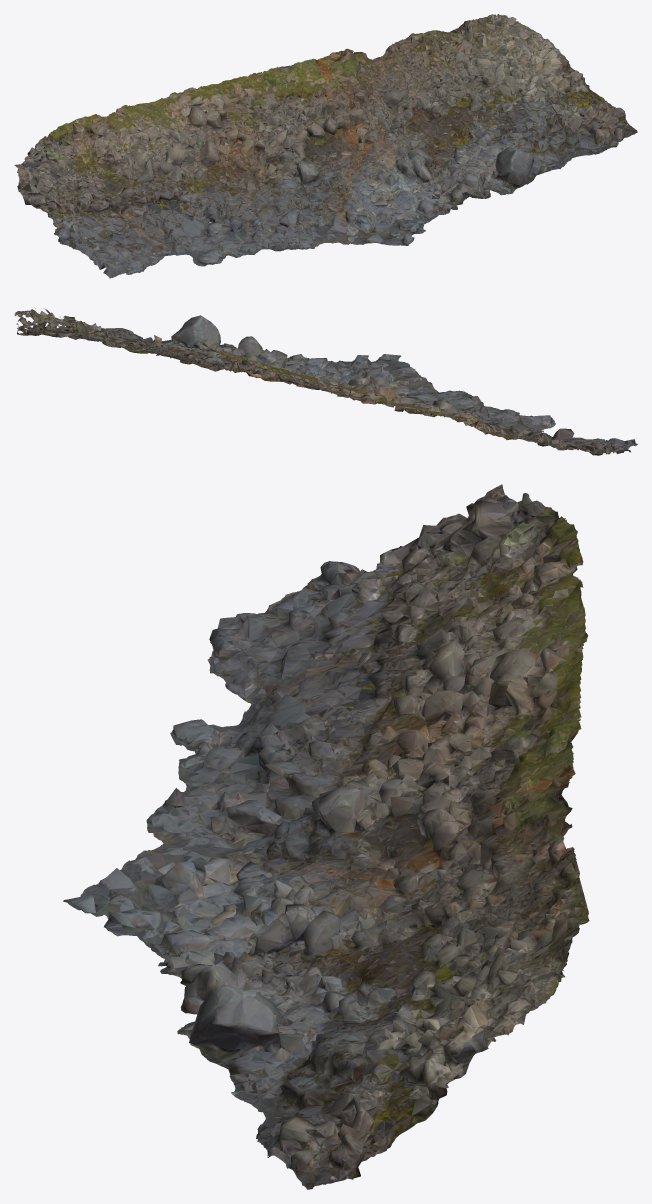
File: strandsten.glb
3 views of the same model, one above another, from view 1: azimuth 30°, elevation 25°; view 2: azimuth 150°, elevation 25°; view 3: azimuth 270°, elevation 25° (orthographic). The views are drawn at different scales.
Visible parts, largest first — view 1: strandsten; view 2: strandsten; view 3: strandsten.
Part boxes in pixels (x1,y1,x2,y2): strandsten: (14, 14, 637, 278); strandsten: (14, 308, 637, 455); strandsten: (63, 484, 589, 1189).
Bounding box in the file's own units: 25.03 × 3.77 × 9.82.
Materials: 1 (1 with a texture image).
